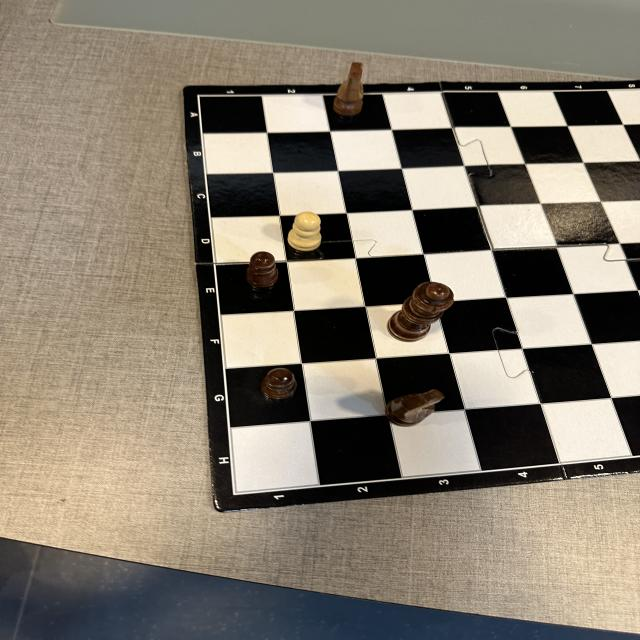Black-Knight: (384, 389, 445, 427), (333, 62, 364, 117)
Black-Pawn: (246, 251, 279, 288), (260, 368, 298, 400)
Black-Queen: (386, 282, 454, 342)
White-Pawn: (288, 211, 322, 252)
